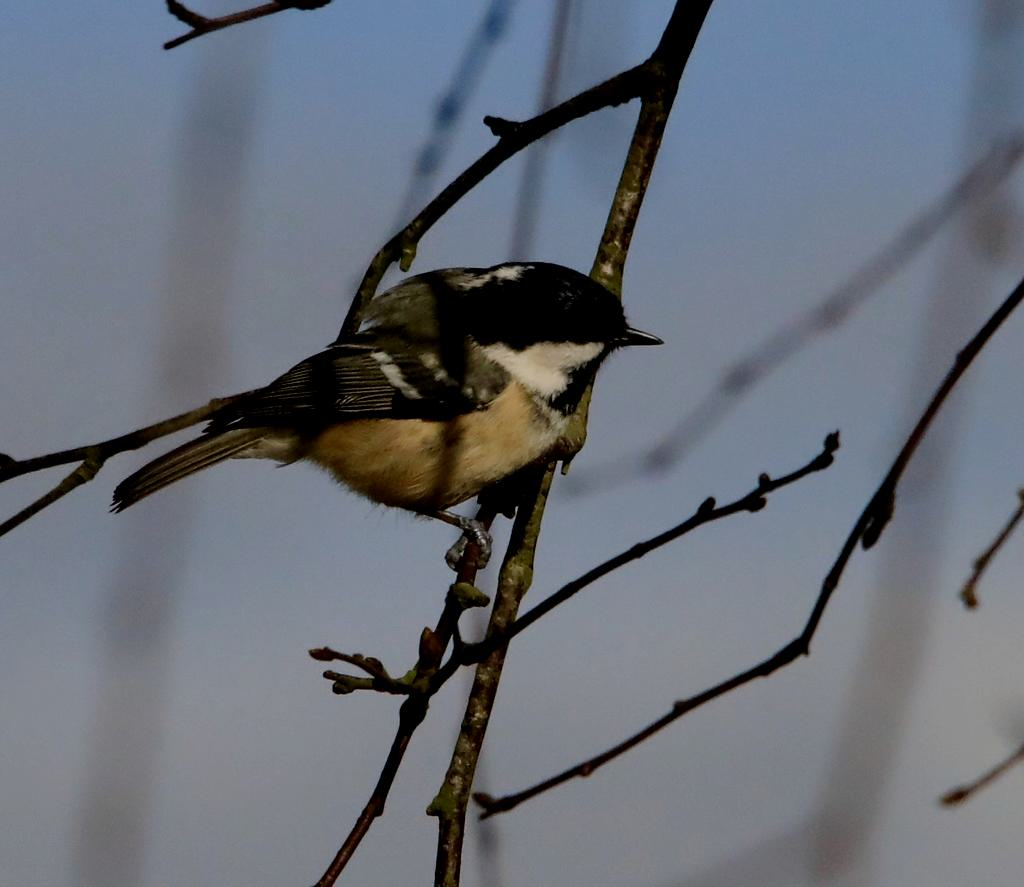PeriparusAter: (105, 260, 666, 572)
